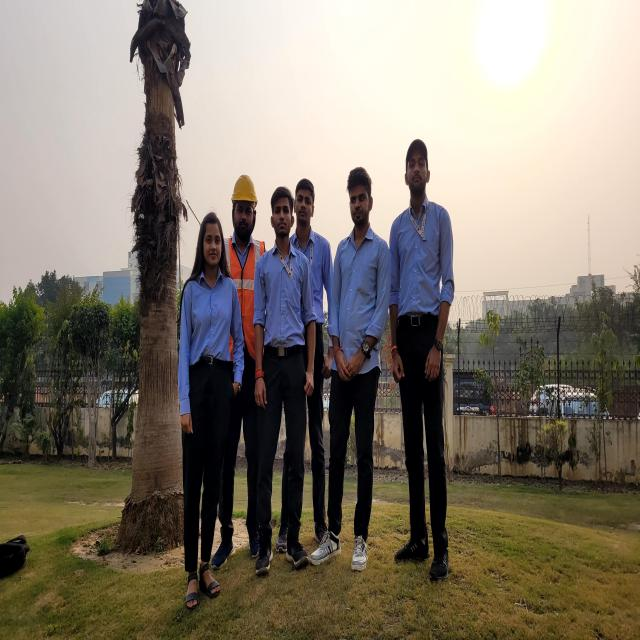safe: (224, 173, 266, 573)
unsafe: (391, 140, 455, 584), (252, 186, 316, 576), (180, 213, 242, 608), (332, 168, 387, 567), (296, 179, 332, 559)
